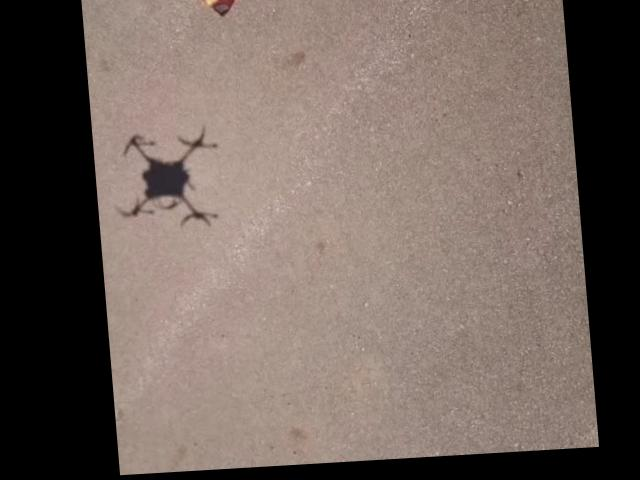fire-poster: (133, 0, 285, 25)
